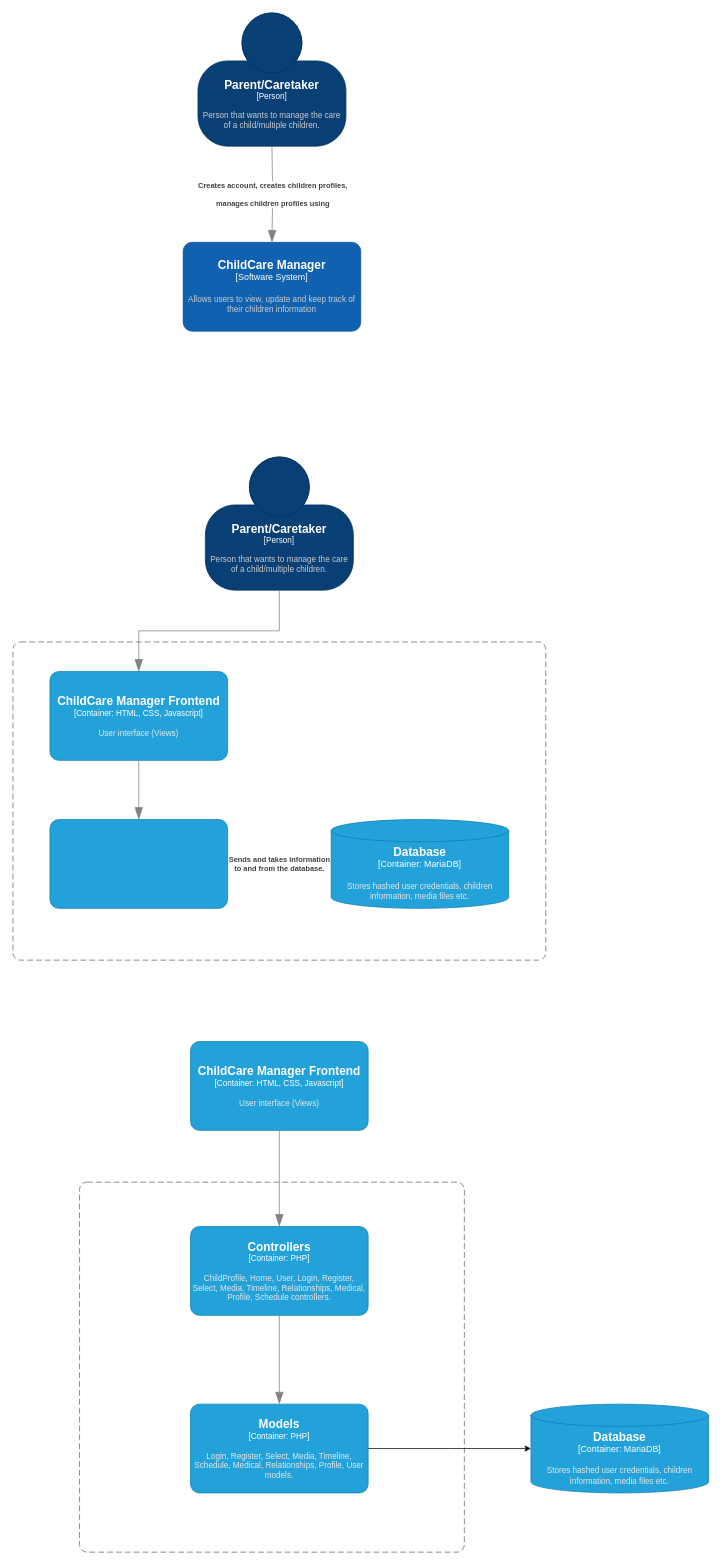
This 722x1565 diagram has some shape labels left out. Each missing label, with the box of its shape:
Backend Application [Container: REST API, PHP] Controllers, models: (49, 819, 228, 908)
Backend Application [Container]: (79, 1181, 464, 1552)
ChildCare Manager [Software System]: (12, 641, 546, 960)
